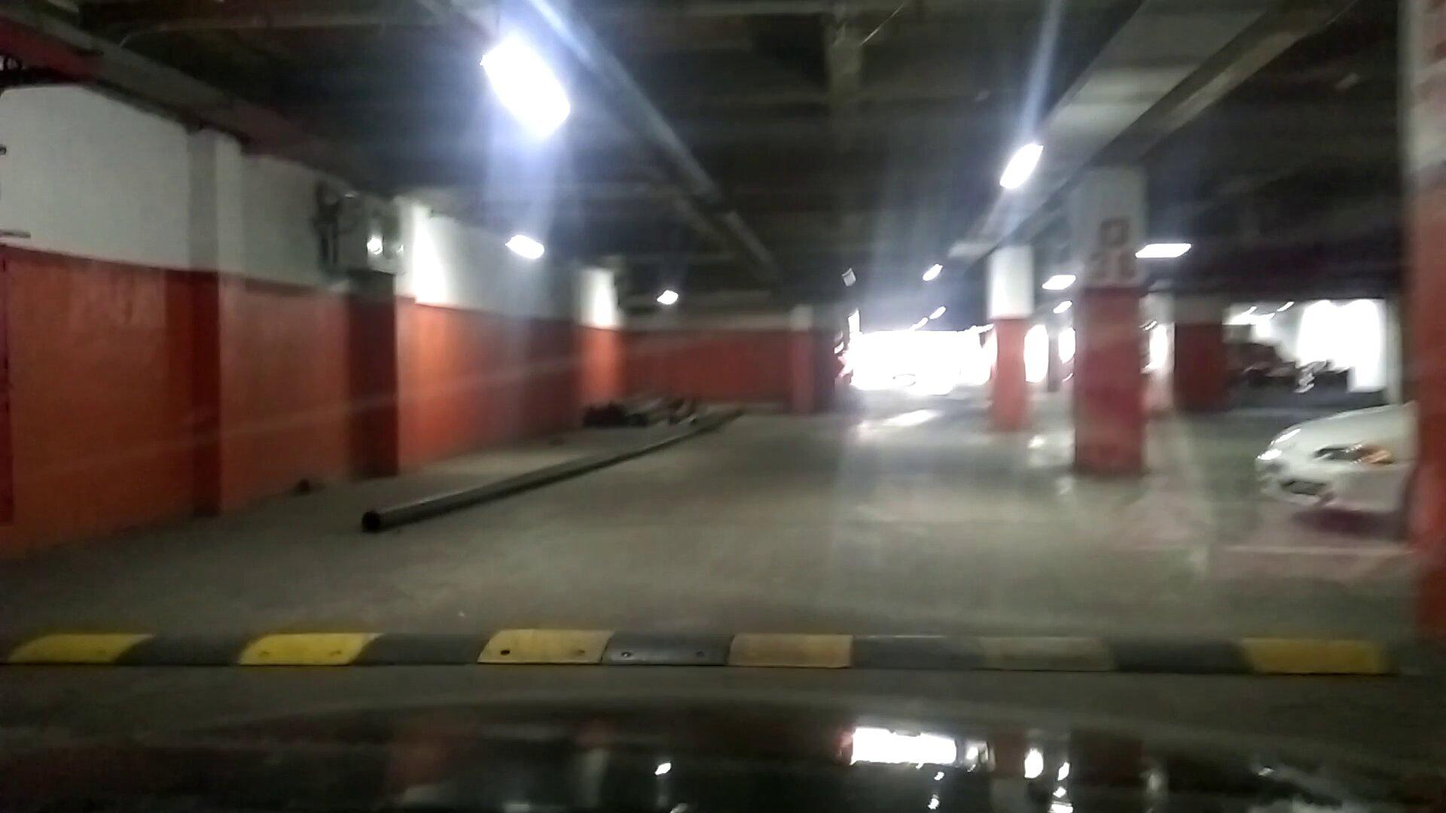Bump: (7, 626, 1400, 677)
